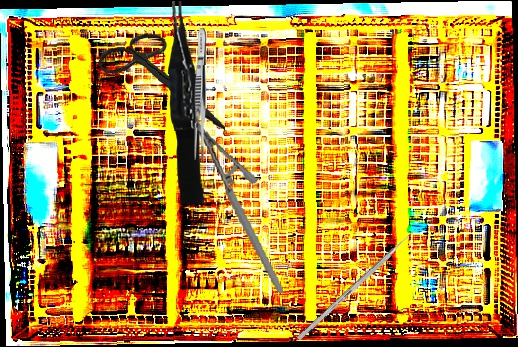Dressing Forceps: (192, 27, 209, 161)
Iris Scissors: (94, 29, 233, 131)
Needle Holder: (182, 100, 284, 303)
Pusher: (296, 222, 423, 342)
Tissue Forceps: (167, 0, 204, 205)
